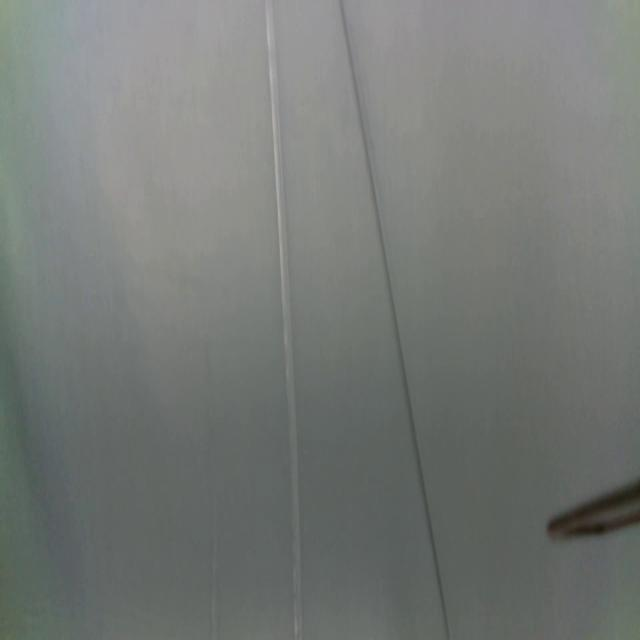crease: (338, 0, 452, 640), (264, 0, 304, 640)
